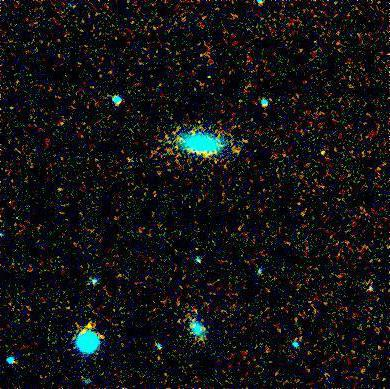star: (311, 138, 341, 168)
